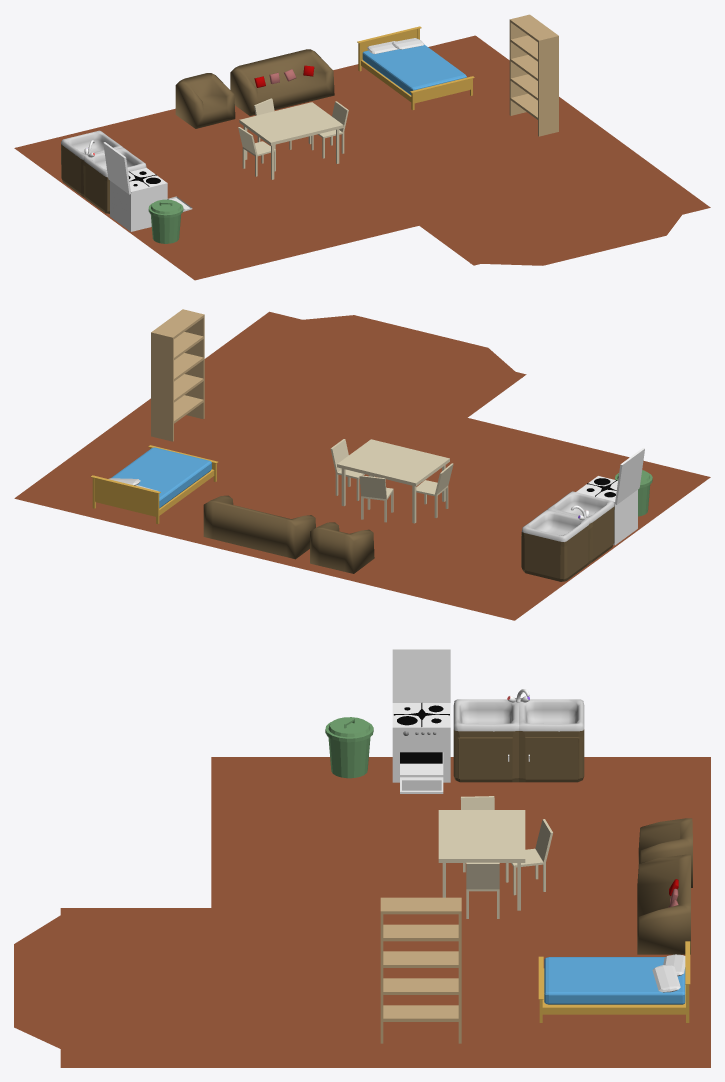
Rendered from houseObject.gltf.
3 renders of one model, top to bottom at view 1: azimuth 30°, elevation 25°; view 2: azimuth 150°, elevation 25°; view 3: azimuth 270°, elevation 25°, orthographic. The views are drawn at different scales.
Visible parts, largest first — view 1: 平面.001, Cube.022, Canape, Cylinder.069, Cylinder.017, Cube.018, 平面, Cube.001, Canape.003, Cube, Poubelle, Cube.021 (+2 smaller); view 2: 平面.001, Cylinder.069, Cube.022, Canape, Cube.018, 平面, Cube.001, Cylinder.017, Canape.003, Cube, Cube.020, Cube.021 (+2 smaller); view 3: 平面.001, Cylinder.069, Cylinder.017, Cube.022, Cube.001, 平面, Cube.018, Canape, Poubelle, Cube, Canape.003, Cube.019 (+2 smaller).
Boxes of the visible parts, <box> form: 平面.001: <box>14,35,710,280</box>; Cube.022: <box>509,14,558,136</box>; Canape: <box>230,49,334,115</box>; Cylinder.069: <box>61,130,146,213</box>; Cylinder.017: <box>103,142,192,231</box>; Cube.018: <box>239,102,343,179</box>; 平面: <box>470,215,681,265</box>; Cube.001: <box>362,44,466,95</box>; Canape.003: <box>175,73,235,128</box>; Cube: <box>357,26,474,110</box>; Poubelle: <box>148,199,183,243</box>; Cube.021: <box>238,127,275,176</box>; 平面.001: <box>14,311,710,620</box>; Cylinder.069: <box>521,491,614,581</box>; Cube.022: <box>151,309,204,441</box>; Canape: <box>203,495,315,559</box>; Cube.018: <box>337,439,449,523</box>; 平面: <box>303,315,514,371</box>; Cube.001: <box>111,447,211,508</box>; Cylinder.017: <box>576,448,644,545</box>; Canape.003: <box>310,522,374,573</box>; Cube: <box>91,445,218,523</box>; Cube.020: <box>359,475,393,522</box>; Cube.021: <box>416,463,453,518</box>; 平面.001: <box>60,757,710,1067</box>; Cylinder.069: <box>453,689,584,782</box>; Cylinder.017: <box>392,649,450,793</box>; Cube.022: <box>380,897,461,1043</box>; Cube.001: <box>544,957,685,1004</box>; 平面: <box>14,915,60,1048</box>; Cube.018: <box>438,810,525,910</box>; Canape: <box>637,854,690,954</box>; Poubelle: <box>325,717,373,778</box>; Cube: <box>538,941,690,1022</box>; Canape.003: <box>638,818,692,887</box>; Cube.019: <box>466,862,499,918</box>.
Bounding box in the file's own units: 12.13 × 2.42 × 11.36.
